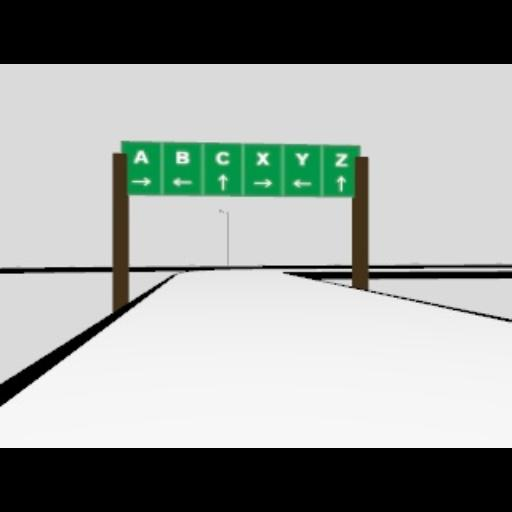A: (133, 149, 149, 163)
B: (175, 150, 189, 164)
C: (214, 151, 230, 165)
Left: (292, 177, 312, 187), (172, 176, 192, 186)
Right: (251, 177, 273, 187), (132, 176, 152, 186)
Straight: (336, 174, 346, 190), (217, 173, 227, 189)
X: (256, 151, 268, 165)
Y: (293, 151, 309, 165)
Z: (333, 152, 347, 166)
